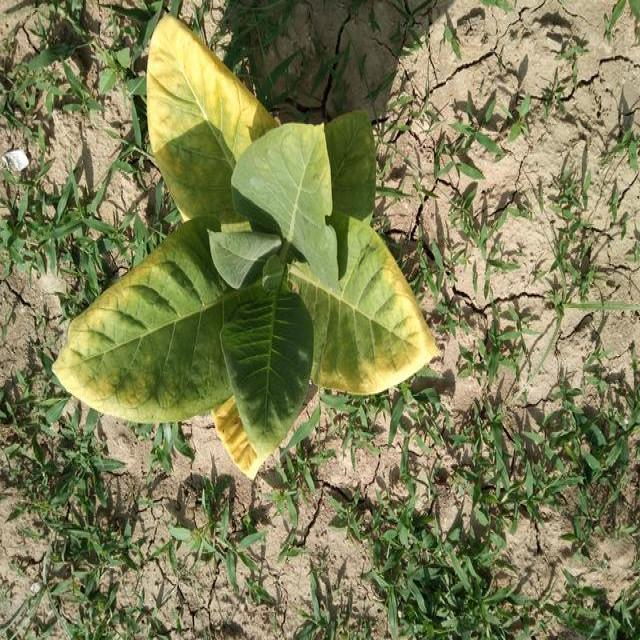crop: (55, 11, 429, 482)
